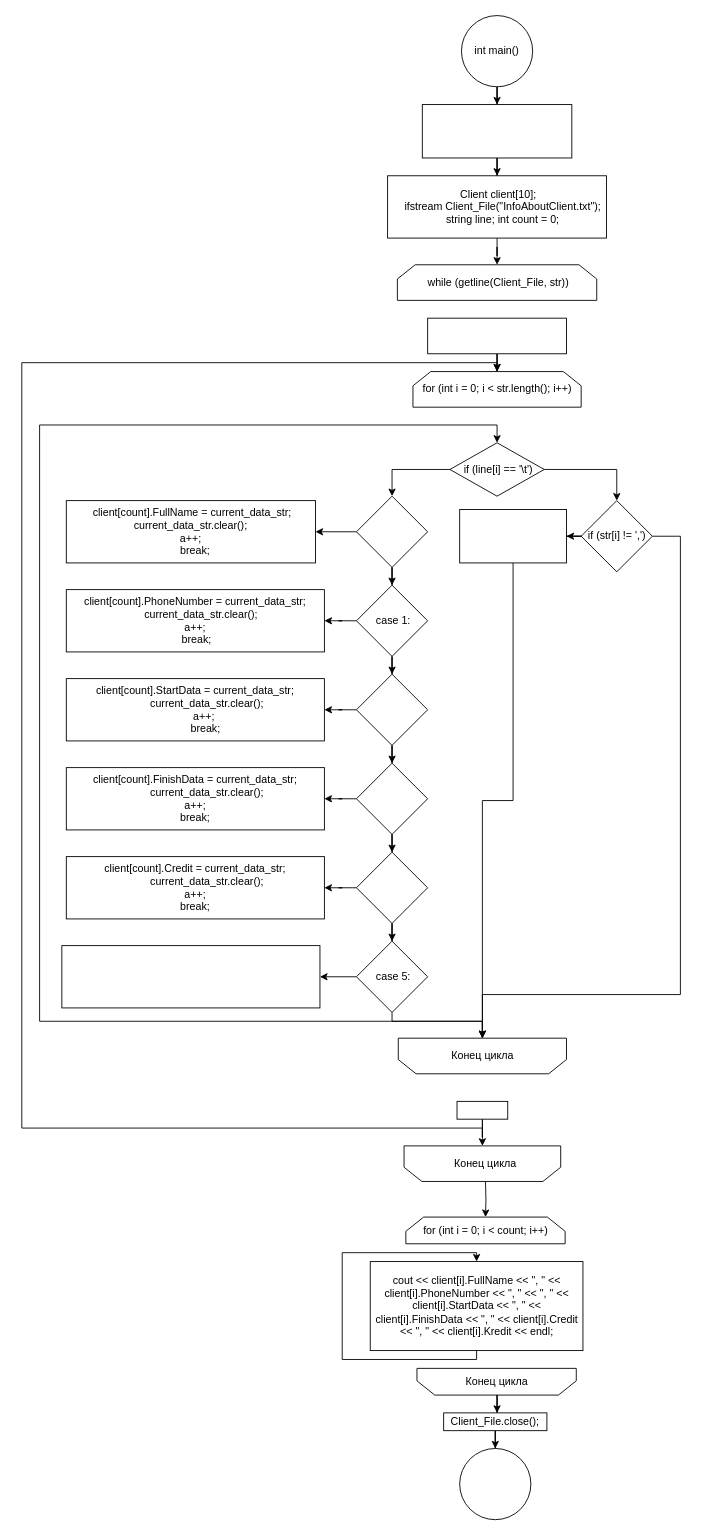
This 703x1535 diagram has some shape labels left out. Here are the shapes that lost their labels. From the top down, the centre of each, then its label:
At point (496, 131): "SetConsoleCP(1251); SetConsoleOutputCP(1251);".
At point (496, 335): "int a = 0; string current_data_str;".
At point (392, 531): "case 0:".
At point (512, 536): "current_data_str += str[i];".
At point (392, 709): "case 2:".
At point (392, 798): "case 3:".
At point (392, 887): "case 4:".
At point (190, 976): "client[count].Kredit = current_data_str; current_data_str.clear(); a++; break;".
At point (482, 1109): "count++;".
